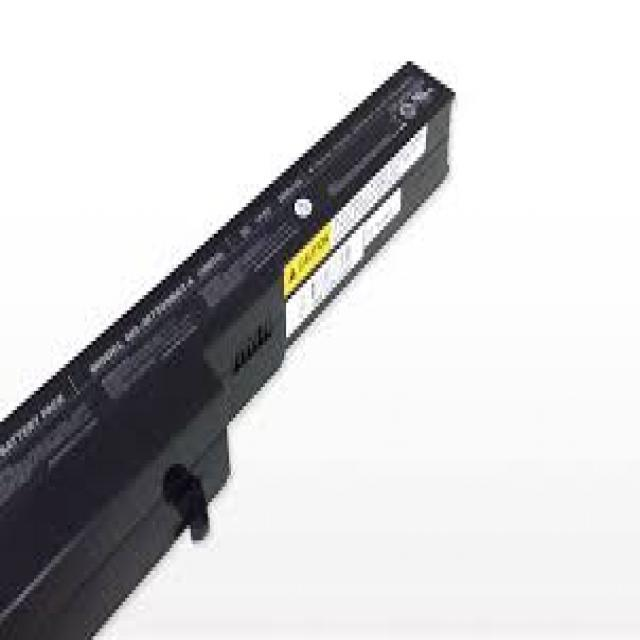battery: (0, 55, 458, 640)
